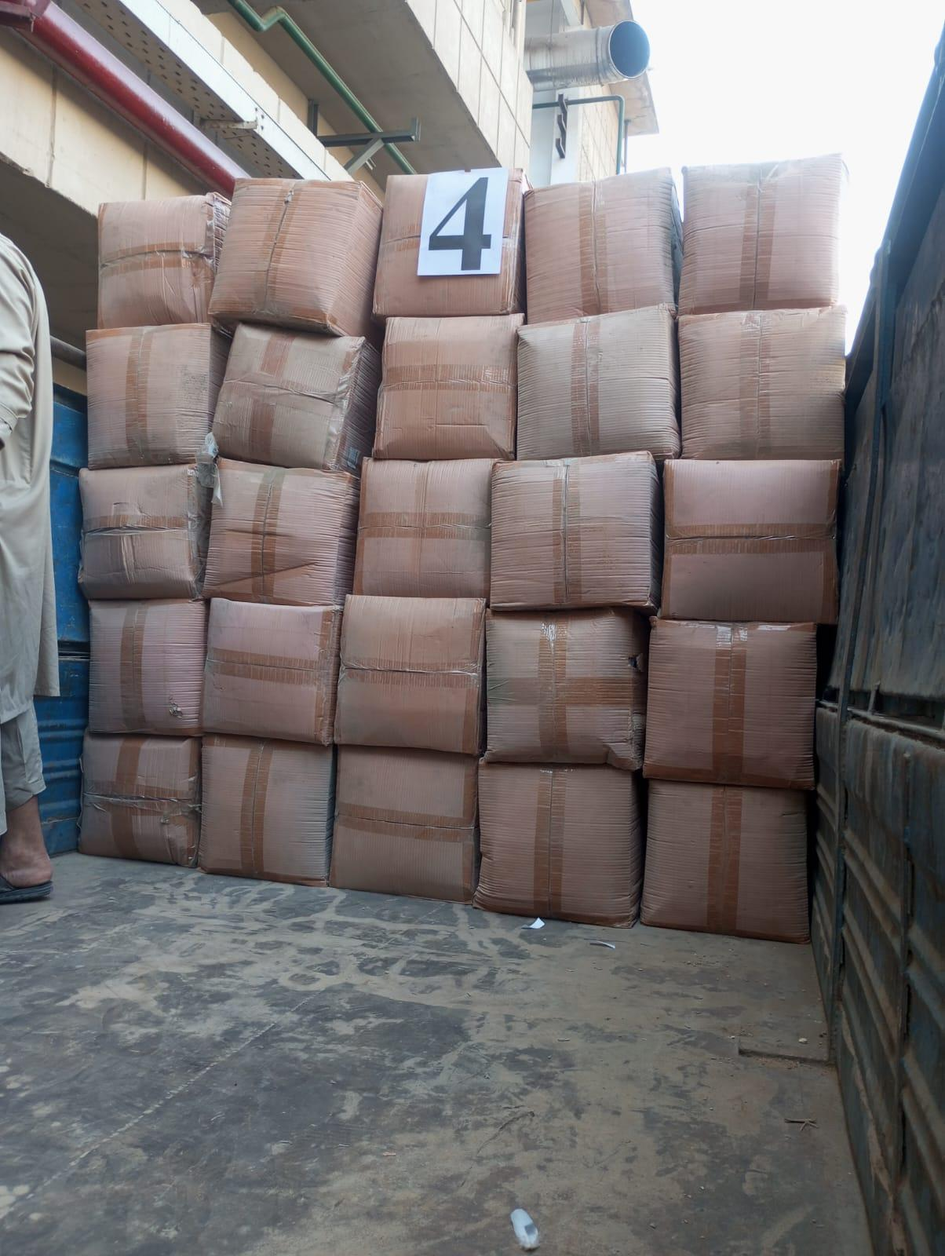carton: (661, 453, 845, 618), (644, 619, 816, 784), (210, 179, 389, 337), (473, 762, 644, 926), (640, 780, 809, 943), (493, 454, 662, 615), (677, 154, 842, 314), (486, 608, 649, 769), (679, 306, 845, 460), (517, 305, 680, 460), (213, 324, 380, 473), (524, 168, 680, 323), (335, 595, 485, 754), (374, 170, 527, 320), (330, 747, 477, 903), (204, 458, 359, 605), (374, 312, 524, 461), (86, 323, 228, 469), (203, 598, 341, 745), (199, 735, 334, 885), (354, 459, 493, 598), (98, 192, 230, 328), (78, 465, 210, 599), (79, 733, 200, 866), (89, 601, 206, 736)
